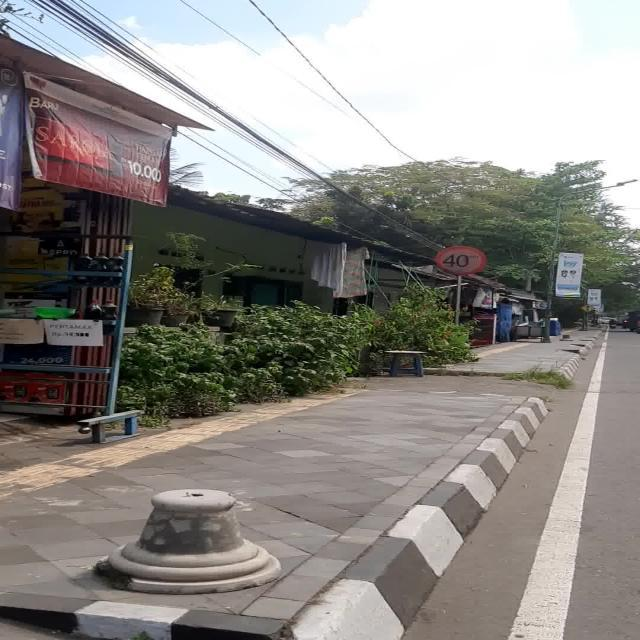Kecepatan Maks. 40 km: (434, 246, 486, 276)
